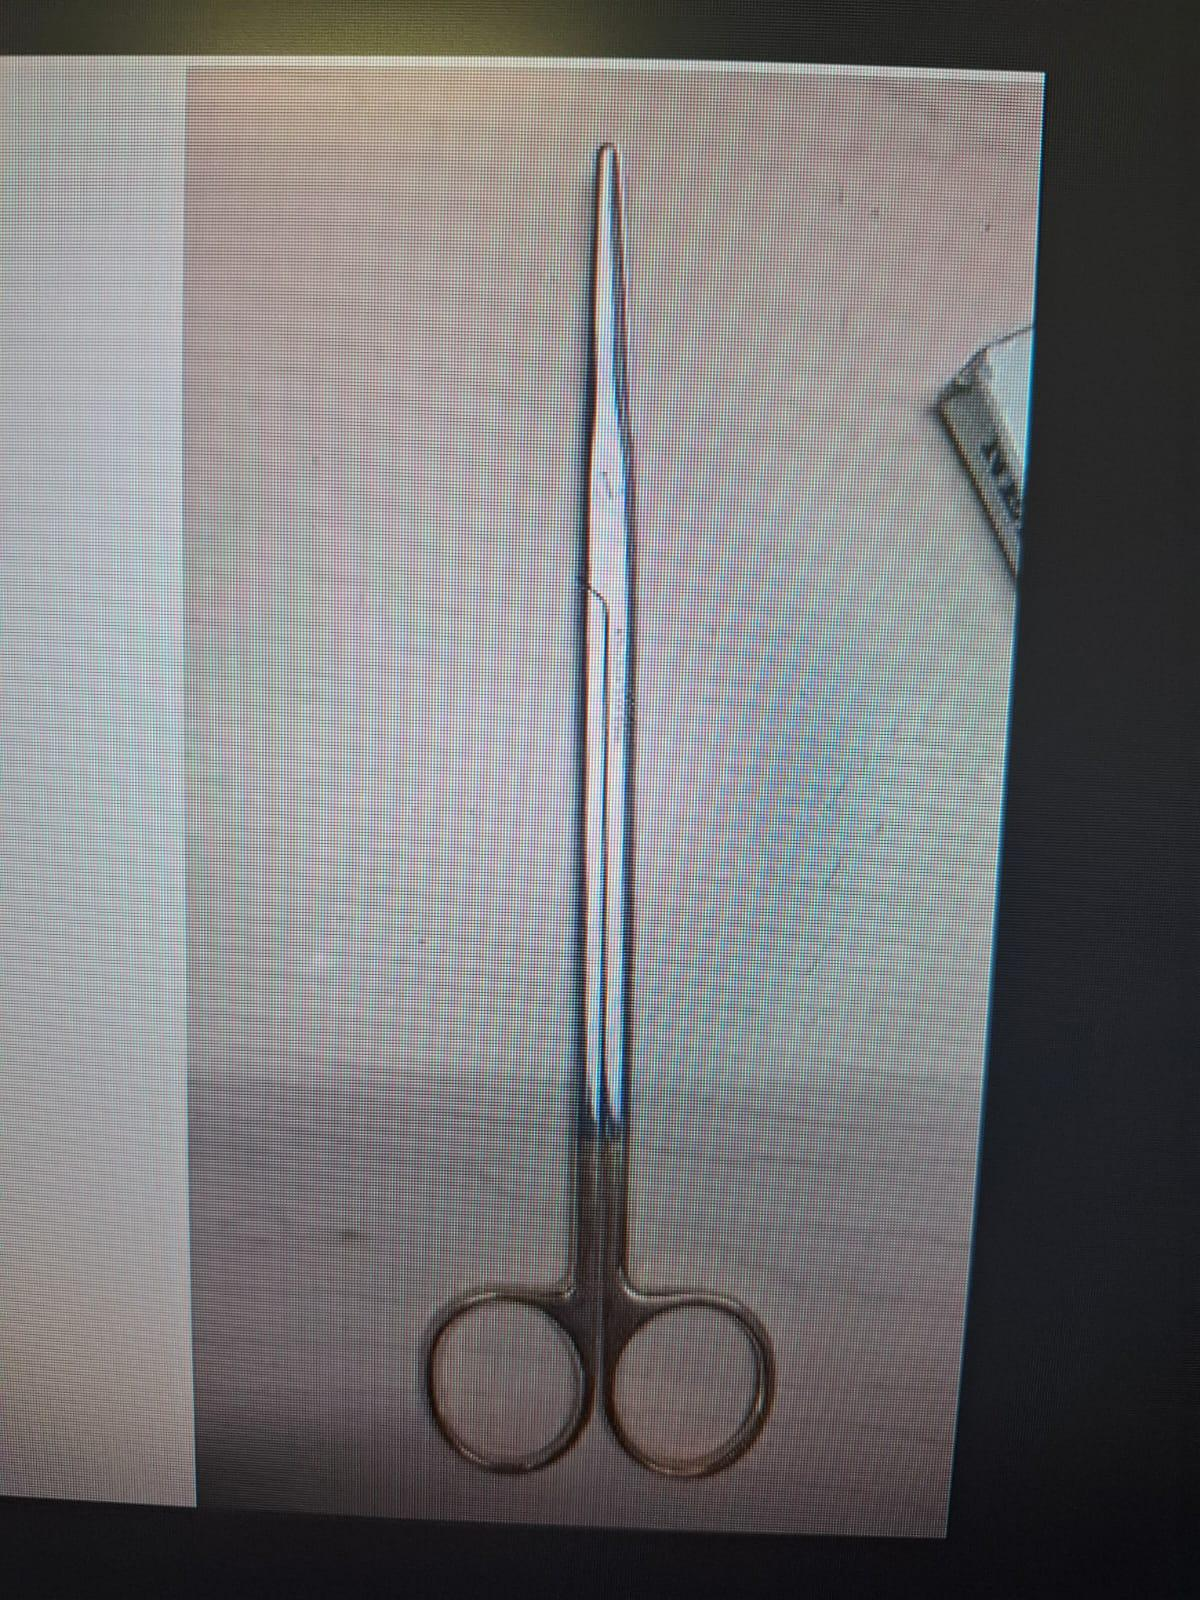Metzenbaum Sciccors: (423, 128, 790, 1515)
